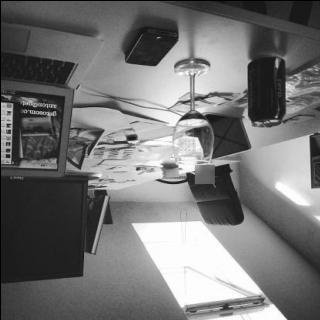alumunium_can: (243, 53, 284, 126)
objects: (172, 59, 214, 164)
